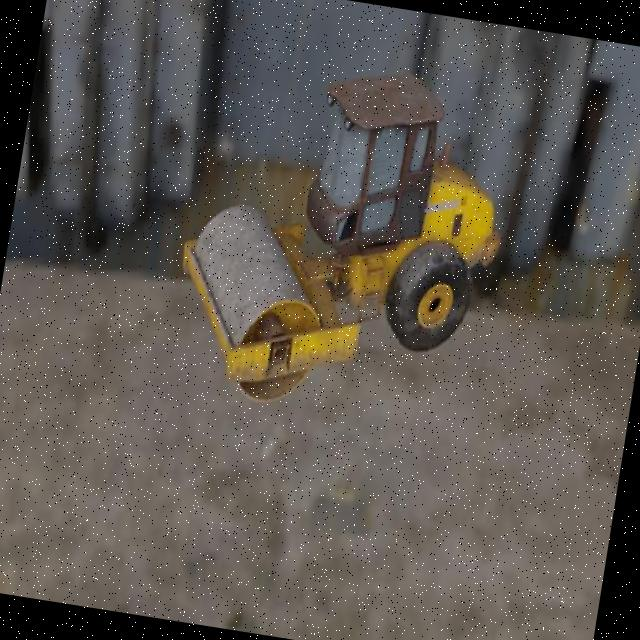Roller: (161, 41, 524, 435)
